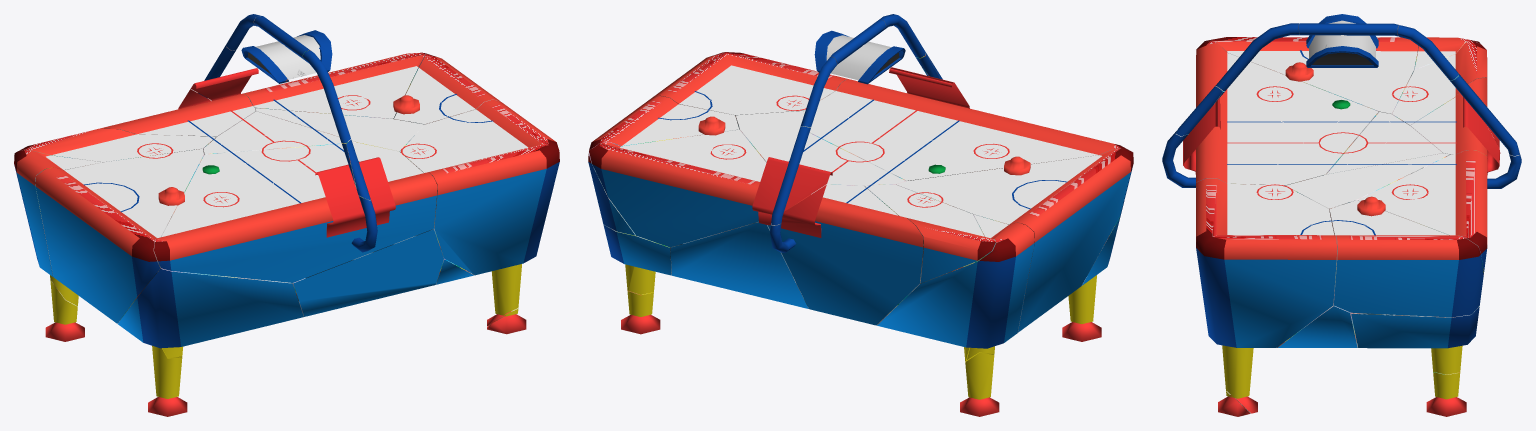
The model's file is stadium smashed.fbx.
3 views of the same model, side by side, from view 1: azimuth 30°, elevation 25°; view 2: azimuth 150°, elevation 25°; view 3: azimuth 270°, elevation 25° (orthographic).
Parts seen in each view (by area): view 1: air_hockey_001.001_cell.004, air_hockey_001.001_cell.015, air_hockey_001.001_cell.002, air_hockey_001.001_cell.012, air_hockey_001.001_cell.001, air_hockey_001.001_cell, air_hockey_001.001_cell.008, air_hockey_001.001_cell.005, air_hockey_001_cell.005, air_hockey_001.001_cell.010, air_hockey_001.001_cell.007, air_hockey_001.001_cell.006 (+12 smaller); view 2: air_hockey_001.001_cell.002, air_hockey_001.001_cell.004, air_hockey_001.001_cell, air_hockey_001.001_cell.007, air_hockey_001.001_cell.006, air_hockey_001.001_cell.010, air_hockey_001.001_cell.015, air_hockey_001.001_cell.008, air_hockey_001.001_cell.005, air_hockey_001.001_cell.012, air_hockey_001.003, air_hockey_001_cell.049 (+15 smaller); view 3: air_hockey_001.001_cell.015, air_hockey_001.001_cell.004, air_hockey_001.001_cell.005, air_hockey_001.001_cell, air_hockey_001.001_cell.002, air_hockey_001.001_cell.010, air_hockey_001.001_cell.014, air_hockey_001.001_cell.008, air_hockey_001.001_cell.012, air_hockey_001.003, air_hockey_001.001_cell.007, air_hockey_001_cell.034 (+16 smaller).
Part boxes in pixels (x1,y1,x2,y2): air_hockey_001.001_cell.004: (154, 142, 437, 282); air_hockey_001.001_cell.015: (400, 99, 559, 275); air_hockey_001.001_cell.002: (35, 148, 203, 323); air_hockey_001.001_cell.012: (203, 111, 443, 316); air_hockey_001.001_cell.001: (118, 268, 303, 348); air_hockey_001.001_cell: (244, 52, 425, 118); air_hockey_001.001_cell.008: (19, 128, 216, 162); air_hockey_001.001_cell.005: (393, 53, 500, 124); air_hockey_001_cell.005: (315, 157, 395, 237); air_hockey_001.001_cell.010: (255, 108, 474, 284); air_hockey_001.001_cell.007: (100, 93, 255, 136); air_hockey_001.001_cell.006: (14, 150, 102, 276); air_hockey_001.001_cell.002: (896, 148, 1133, 332); air_hockey_001.001_cell.004: (804, 79, 1128, 180); air_hockey_001.001_cell: (588, 129, 766, 247); air_hockey_001.001_cell.007: (767, 184, 923, 325); air_hockey_001.001_cell.006: (876, 214, 1034, 348); air_hockey_001.001_cell.010: (670, 111, 808, 308); air_hockey_001.001_cell.015: (651, 52, 847, 115); air_hockey_001.001_cell.008: (864, 184, 995, 283); air_hockey_001.001_cell.005: (588, 96, 739, 235); air_hockey_001.001_cell.012: (799, 132, 906, 185); air_hockey_001.003: (814, 30, 905, 84); air_hockey_001_cell.049: (752, 157, 832, 225); air_hockey_001.001_cell.015: (1196, 178, 1336, 347); air_hockey_001.001_cell.004: (1196, 41, 1378, 187); air_hockey_001.001_cell.005: (1329, 200, 1483, 317); air_hockey_001.001_cell: (1357, 150, 1487, 274); air_hockey_001.001_cell.002: (1203, 37, 1418, 113); air_hockey_001.001_cell.010: (1277, 153, 1450, 347); air_hockey_001.001_cell.014: (1351, 306, 1479, 348); air_hockey_001.001_cell.008: (1392, 40, 1487, 125); air_hockey_001.001_cell.012: (1325, 112, 1442, 174); air_hockey_001.003: (1306, 14, 1378, 67); air_hockey_001.001_cell.007: (1410, 77, 1487, 163); air_hockey_001_cell.034: (1222, 345, 1253, 398).
Bounding box in the file's own units: 206 × 135 × 148.
